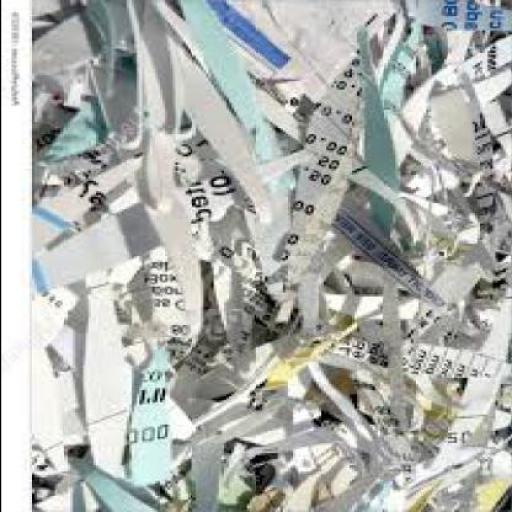paper: (31, 1, 511, 512)
